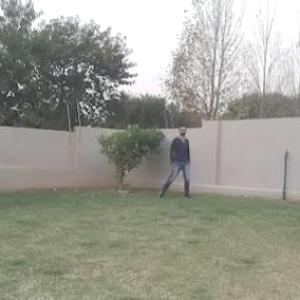follow: (171, 125, 189, 194)
